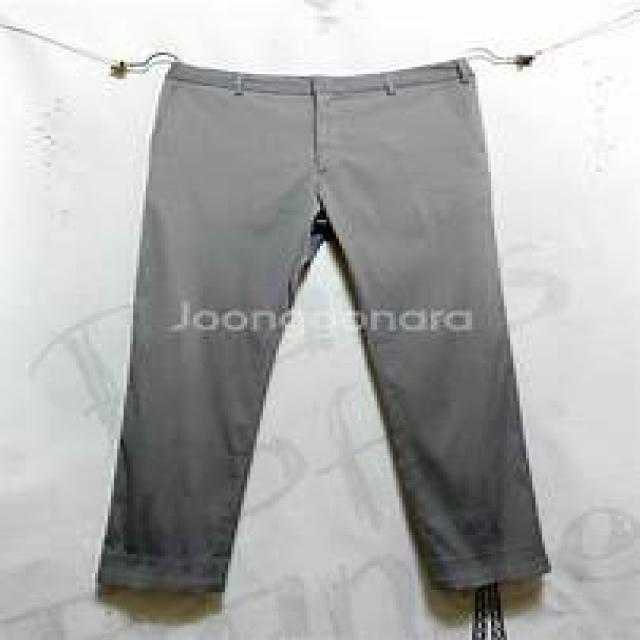long-pants: (92, 51, 551, 597)
